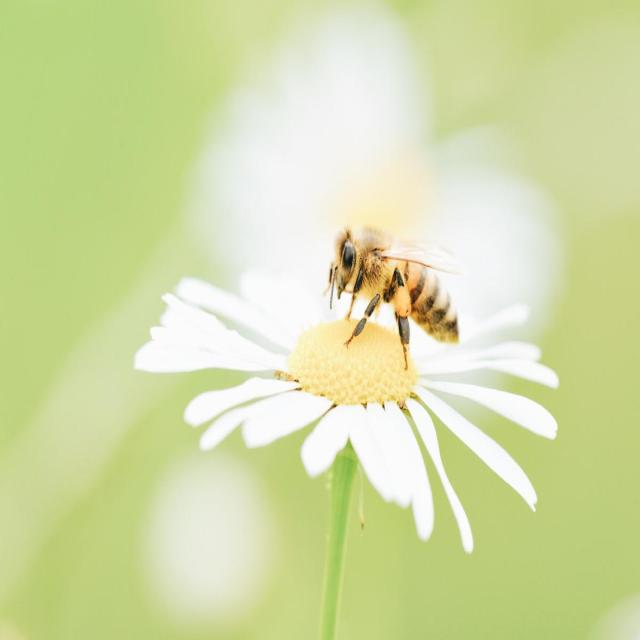honeybee: (316, 218, 463, 357)
